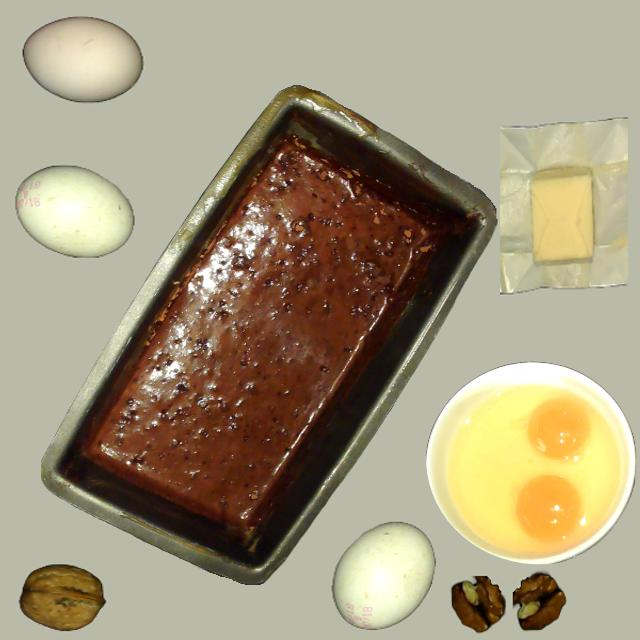Egg: (495, 461, 589, 551)
Walnut: (19, 564, 105, 632)
